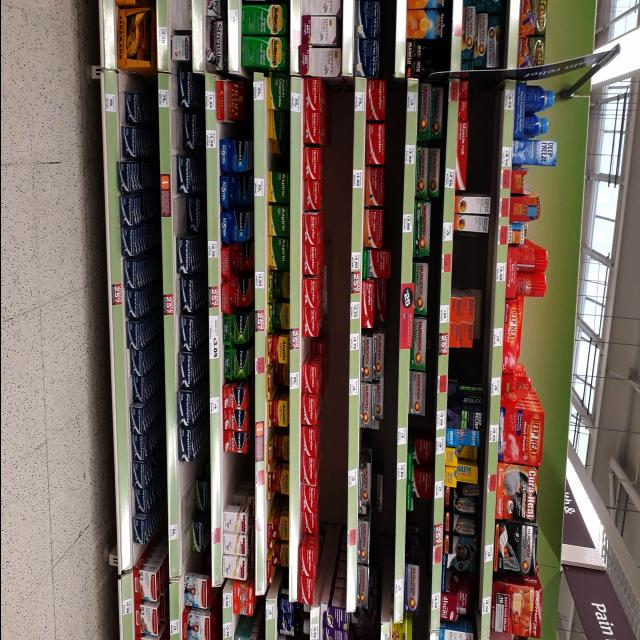empty_space: (453, 239, 484, 288), (222, 457, 251, 488), (180, 467, 196, 517), (448, 351, 480, 373)
